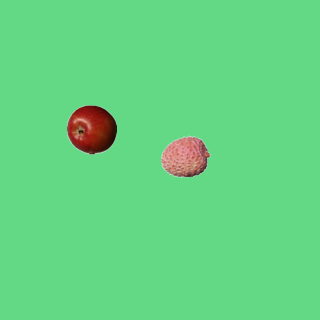Apple Braeburn: (66, 104, 116, 154)
Lychee: (160, 131, 210, 181)
